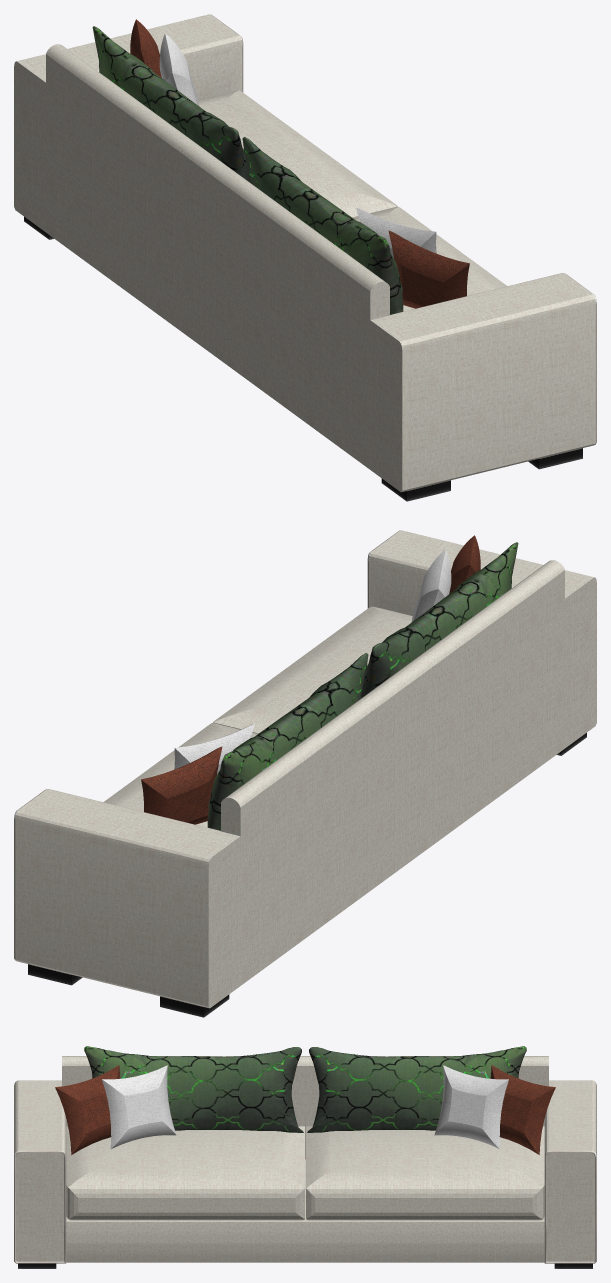
The model's file is couch_white.fbx.
The picture shows the model from 3 angles, top to bottom: view 1: azimuth 30°, elevation 25°; view 2: azimuth 150°, elevation 25°; view 3: azimuth 270°, elevation 25°; orthographic projection. The views are drawn at different scales.
Parts seen in each view (by area): view 1: Component_23_2, Component_23_1, Pillow_Melrose2, Pillow_Melrose1, Component_1_2, Component_2_1, Component_2_2, Component_1_1; view 2: Component_23_1, Component_23_2, Pillow_Melrose1, Pillow_Melrose2, Component_1_1, Component_2_2, Component_2_1, Component_1_2; view 3: Component_23_1, Component_23_2, Pillow_Melrose1, Pillow_Melrose2, Component_2_1, Component_2_2, Component_1_1, Component_1_2.
Part boxes in pixels (bbox=[...]): Component_23_2: bbox=[208, 163, 596, 501]; Component_23_1: bbox=[14, 14, 397, 350]; Pillow_Melrose2: bbox=[242, 137, 403, 314]; Pillow_Melrose1: bbox=[92, 26, 249, 182]; Component_1_2: bbox=[388, 230, 469, 308]; Component_2_1: bbox=[159, 33, 199, 105]; Component_2_2: bbox=[356, 207, 436, 258]; Component_1_1: bbox=[130, 19, 161, 77]; Component_23_1: bbox=[14, 679, 402, 1017]; Component_23_2: bbox=[213, 530, 596, 866]; Pillow_Melrose1: bbox=[207, 653, 368, 830]; Pillow_Melrose2: bbox=[361, 542, 518, 698]; Component_1_1: bbox=[141, 746, 222, 824]; Component_2_2: bbox=[411, 549, 451, 621]; Component_2_1: bbox=[174, 723, 254, 774]; Component_1_2: bbox=[449, 535, 480, 593]; Component_23_1: bbox=[305, 1056, 596, 1268]; Component_23_2: bbox=[14, 1056, 305, 1268]; Pillow_Melrose1: bbox=[307, 1046, 526, 1132]; Pillow_Melrose2: bbox=[84, 1046, 303, 1132]; Component_2_1: bbox=[434, 1065, 508, 1148]; Component_2_2: bbox=[102, 1065, 176, 1148]; Component_1_1: bbox=[490, 1065, 555, 1154]; Component_1_2: bbox=[55, 1065, 120, 1154].
Size of the model in its own units: 79.78 by 87.11 by 275.
